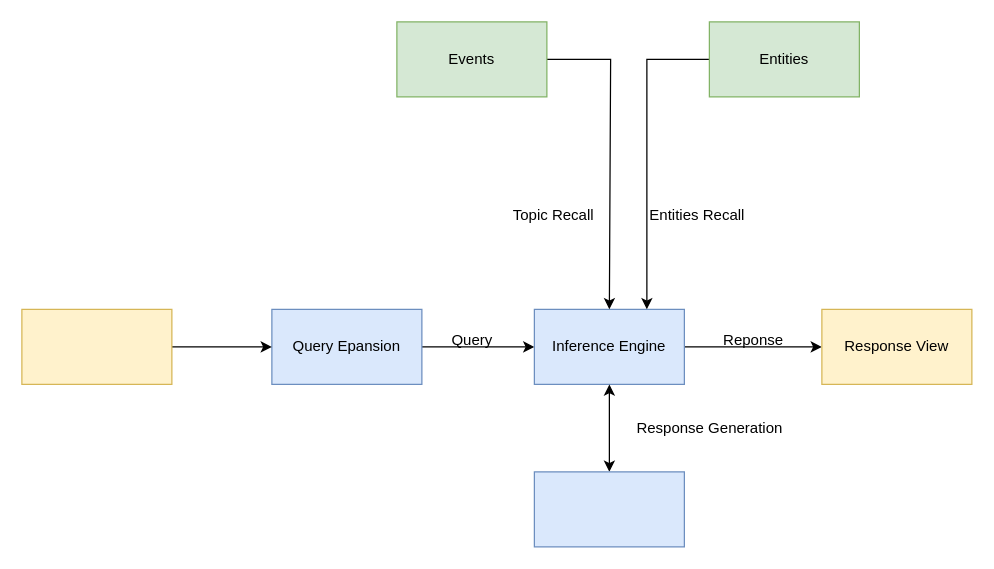
Image size: 994x569. Some labels were removed from this diagram. The centre of each missing label's shape, as x and y in pixels:
"LLM" belongs at pixel 608 509.
"User Query" belongs at pixel 96 346.
